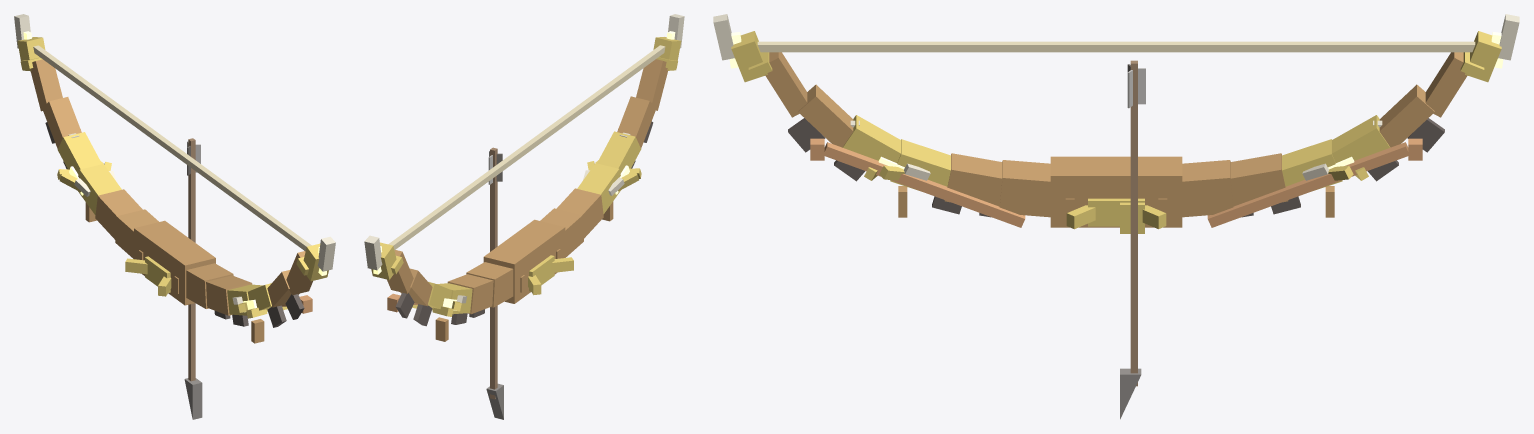
The model's file is art_solar_flare_recurve.fbx.
3 renders of one model, left to right at view 1: azimuth 30°, elevation 25°; view 2: azimuth 150°, elevation 25°; view 3: azimuth 270°, elevation 25°, orthographic. The views are drawn at different scales.
Visible parts, largest first — view 1: BowString, Handle, ArrowShaft, LimbU_2, LimbU_5, LimbU_4, LimbL_1, LimbU_3, LimbU_6, LimbU_1, LimbL_2, LimbL_6 (+12 smaller); view 2: BowString, Handle, ArrowShaft, LimbL_2, LimbL_5, LimbL_4, LimbU_1, LimbL_3, LimbL_6, LimbL_1, LimbU_2, LimbU_6 (+13 smaller); view 3: BowString, Handle, LimbL_1, LimbU_1, HeatPipe_L, HeatPipe_U, ArrowShaft, LimbL_2, LimbU_2, LimbL_5, LimbU_5, LimbL_4 (+8 smaller).
Part boxes in pixels (x1,y1,x2,y2): BowString: (33, 45, 311, 251); Handle: (134, 220, 215, 305); ArrowShaft: (188, 138, 195, 381); LimbU_2: (95, 189, 142, 239); LimbU_5: (42, 97, 81, 148); LimbU_4: (57, 132, 101, 174); LimbL_1: (186, 263, 233, 308); LimbU_3: (78, 164, 121, 215); LimbU_6: (30, 59, 62, 111); LimbU_1: (115, 209, 158, 258); LimbL_2: (206, 275, 252, 315); LimbL_6: (286, 251, 312, 295); BowString: (388, 45, 665, 250); Handle: (483, 219, 565, 303); ArrowShaft: (490, 147, 497, 399); LimbL_2: (556, 188, 603, 238); LimbL_5: (617, 96, 656, 148); LimbL_4: (597, 131, 641, 173); LimbU_1: (466, 262, 513, 307); LimbL_3: (577, 163, 620, 213); LimbL_6: (636, 59, 668, 110); LimbL_1: (540, 208, 583, 257); LimbU_2: (447, 274, 493, 314); LimbU_6: (387, 250, 413, 293); BowString: (757, 41, 1475, 52); Handle: (1050, 156, 1182, 227); LimbL_1: (999, 160, 1050, 217); LimbU_1: (1182, 160, 1233, 217); HeatPipe_L: (824, 142, 1025, 227); HeatPipe_U: (1207, 142, 1408, 227); ArrowShaft: (1130, 60, 1137, 386); LimbL_2: (944, 153, 1002, 206); LimbU_2: (1230, 153, 1288, 206); LimbL_5: (798, 84, 853, 147); LimbU_5: (1379, 84, 1434, 147); LimbL_4: (842, 115, 900, 162).
Size of the model in its own units: 0.558 by 2.39 by 4.53.
